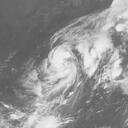cyclone: (40, 40, 79, 84)
